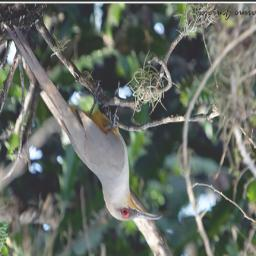Cuckoo: (2, 18, 163, 224)
